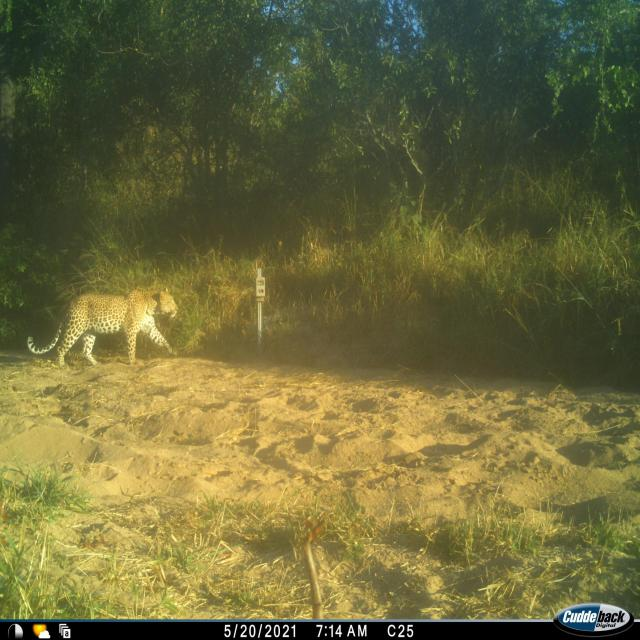Leopard: (41, 282, 190, 376)
